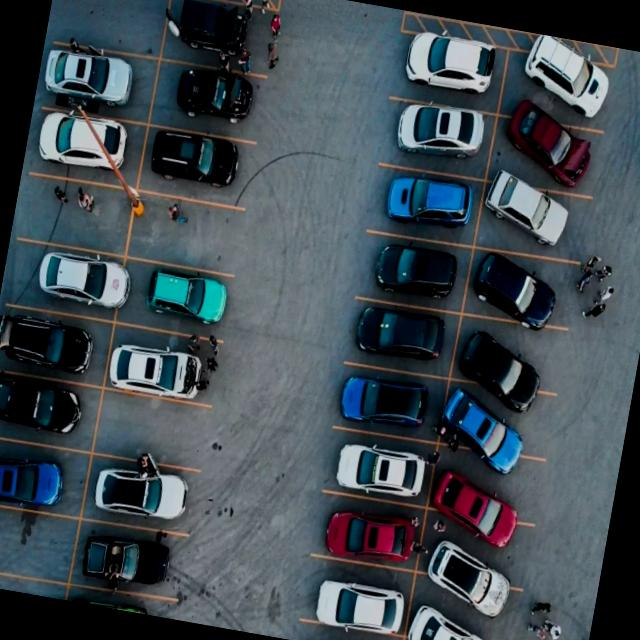car: (385, 18, 509, 116), (458, 238, 574, 336), (474, 167, 590, 264), (414, 514, 530, 610), (349, 227, 474, 316), (374, 90, 496, 181), (337, 292, 461, 381), (362, 158, 484, 248), (327, 357, 449, 445), (436, 368, 550, 462), (101, 320, 222, 408), (5, 235, 126, 322), (114, 255, 236, 340), (501, 34, 609, 130), (318, 423, 437, 508), (40, 38, 160, 122), (148, 56, 266, 141), (137, 122, 256, 206), (80, 452, 199, 536), (309, 488, 426, 572), (0, 301, 114, 387), (68, 516, 184, 600), (427, 439, 541, 524), (488, 113, 602, 197), (300, 555, 414, 638), (161, 0, 283, 76), (25, 105, 138, 186), (451, 314, 566, 391), (0, 368, 101, 453), (0, 432, 92, 519), (401, 599, 511, 640)
free: (124, 190, 250, 276), (15, 170, 136, 258), (90, 388, 214, 473), (54, 0, 173, 63), (0, 498, 82, 585)
